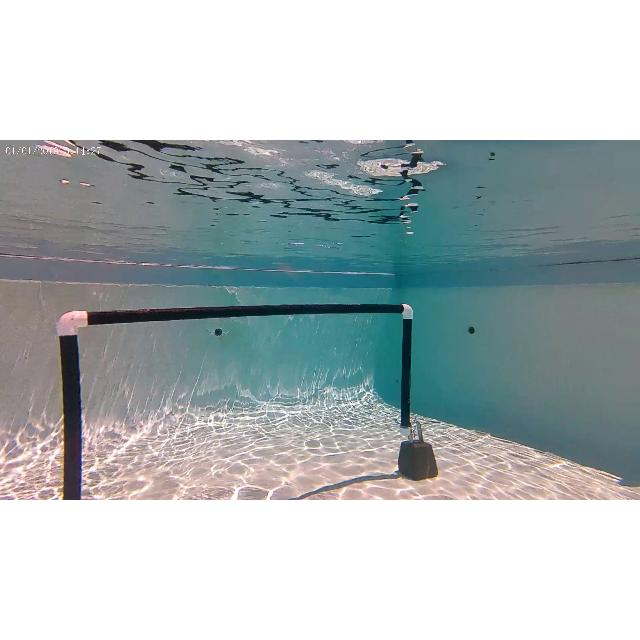prequal gate: (56, 302, 414, 500)
prequal gate leg l: (54, 306, 98, 500)
prequal gate leg r: (399, 304, 419, 441)
